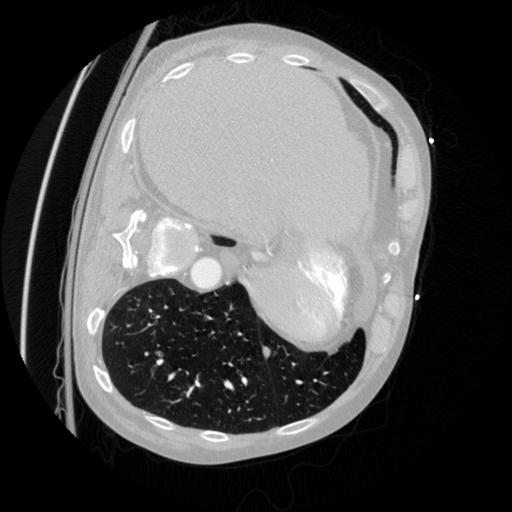nodule: (259, 343, 276, 360)
